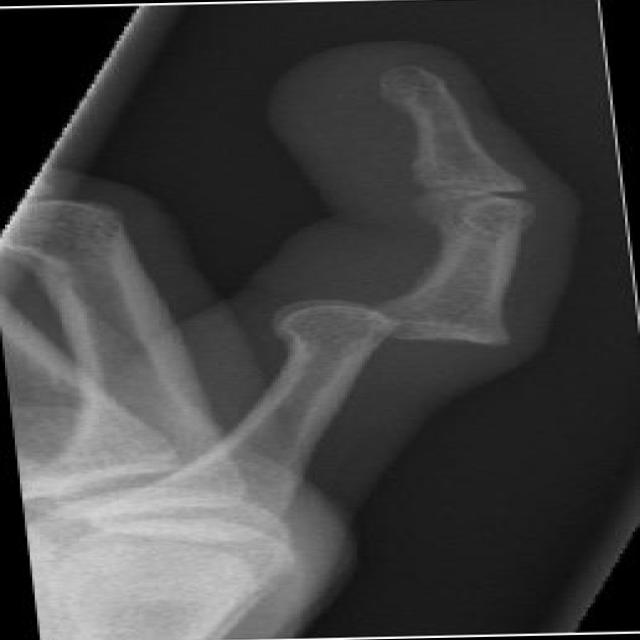Transverse: (245, 270, 555, 389)
